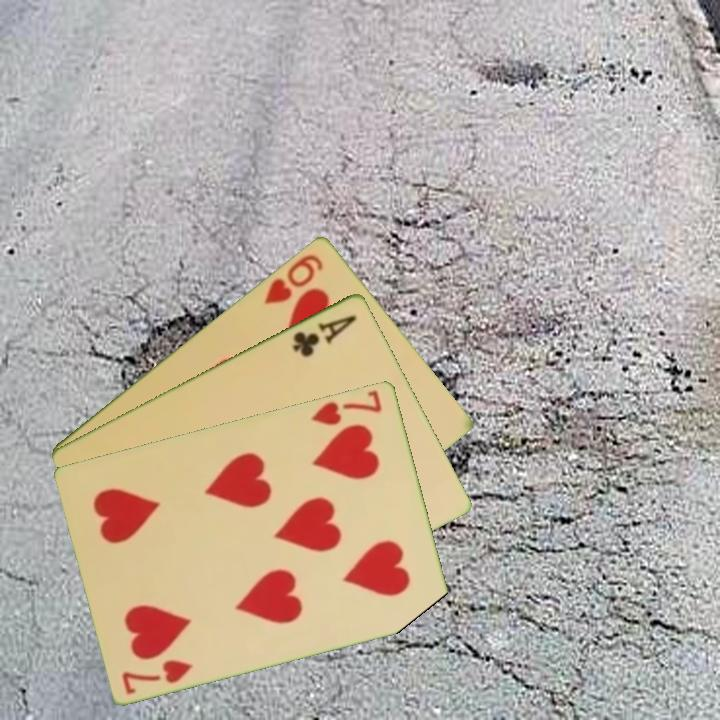6h: (260, 250, 326, 307)
7h: (118, 655, 197, 697), (308, 386, 385, 428)
Ac: (289, 311, 360, 360)
